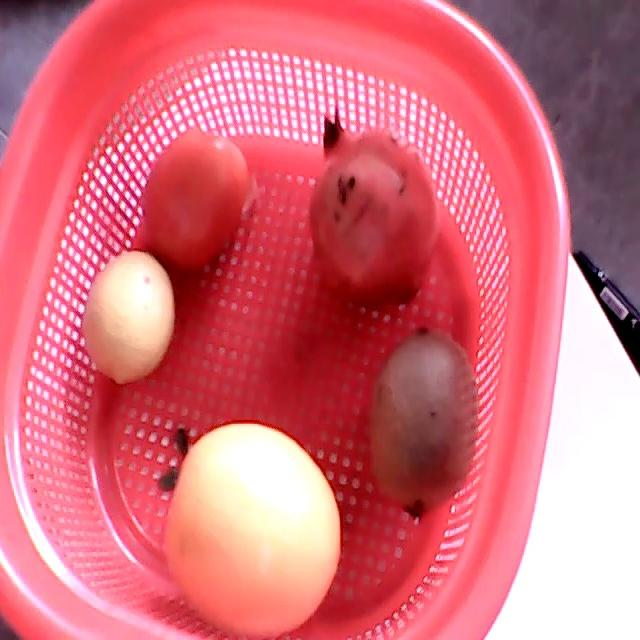kiwi: (372, 323, 475, 521)
lemon: (85, 251, 175, 382)
orange: (159, 424, 341, 639)
pomegranate: (310, 108, 436, 309)
tomato: (142, 126, 247, 271)
